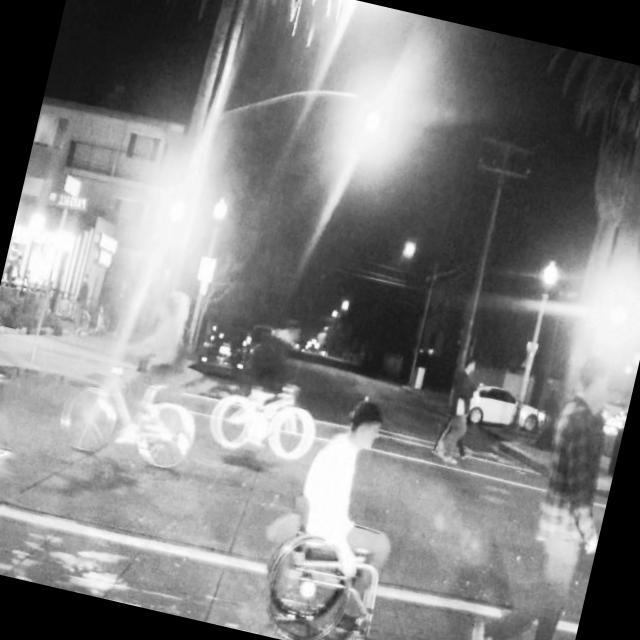Light: (603, 249, 640, 333), (361, 68, 394, 139), (167, 161, 196, 226)
